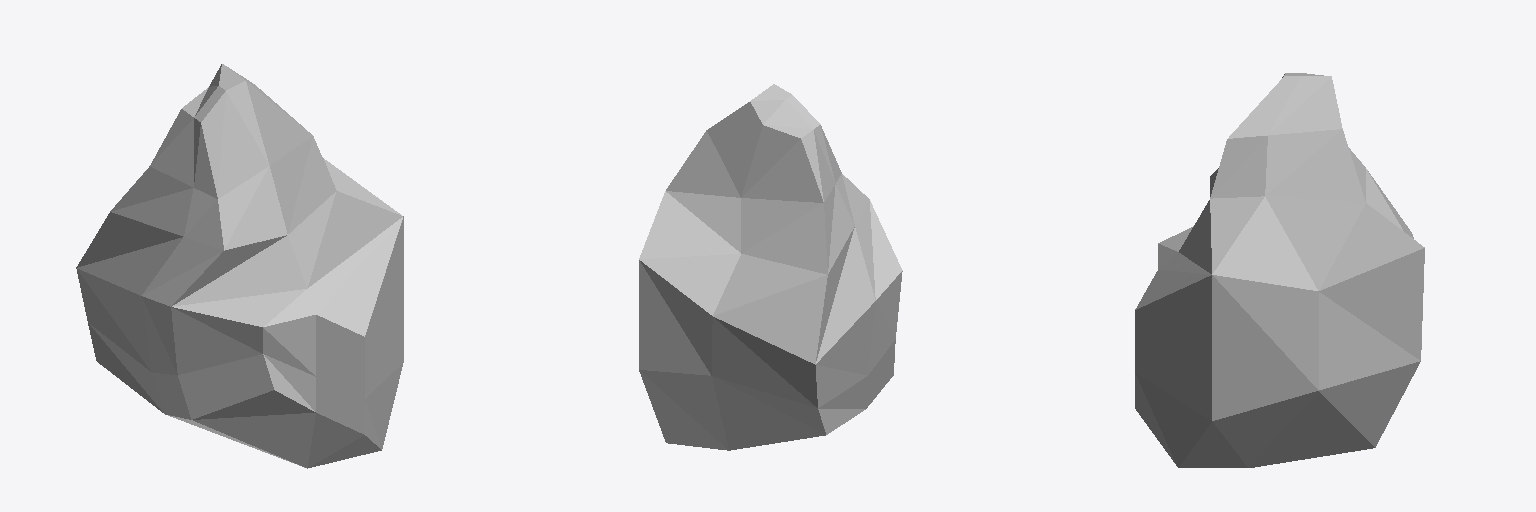
Rendered from rock_medium.obj.
The picture shows the model from 3 angles: view 1: azimuth 30°, elevation 25°; view 2: azimuth 150°, elevation 25°; view 3: azimuth 270°, elevation 25°; orthographic projection.
Visible parts, largest first — view 1: Cube.001; view 2: Cube.001; view 3: Cube.001.
Part boxes in pixels (left/top/right/bottom): Cube.001: left=76, top=64, right=403, bottom=468; Cube.001: left=639, top=84, right=902, bottom=450; Cube.001: left=1135, top=73, right=1424, bottom=467.
Bounding box in the file's own units: 1.33 × 1.96 × 1.47.